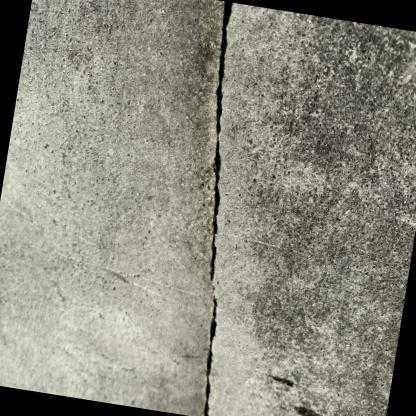crack: (202, 0, 232, 416)
